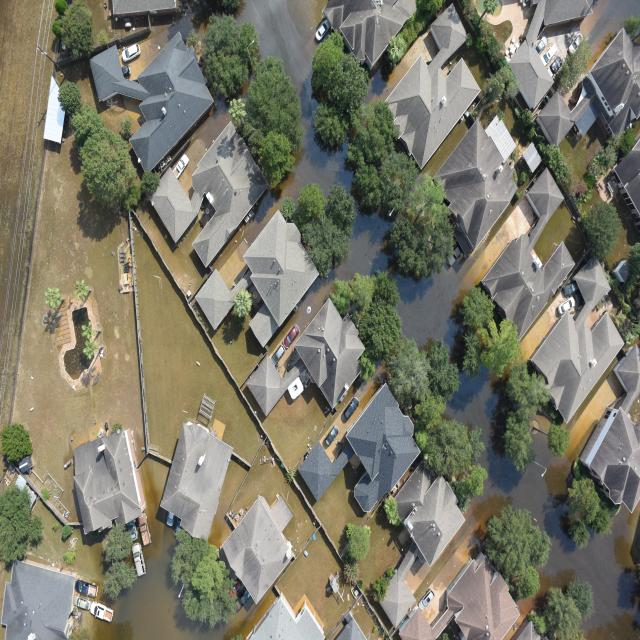fire: (450, 374, 640, 639), (89, 460, 224, 640), (236, 0, 352, 196), (397, 267, 459, 346), (335, 213, 393, 279)
